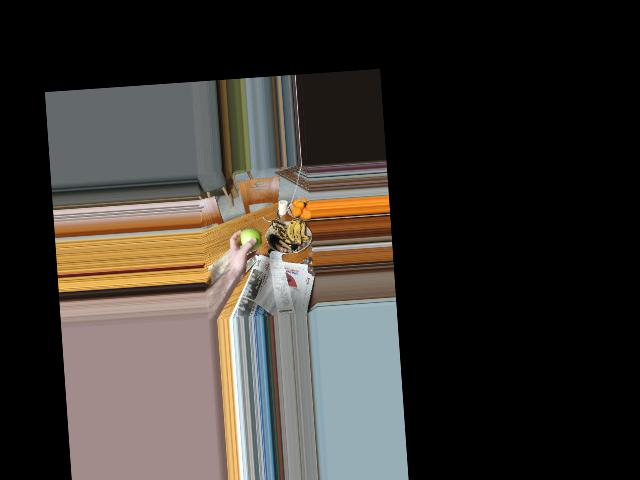apple: (239, 228, 262, 251)
